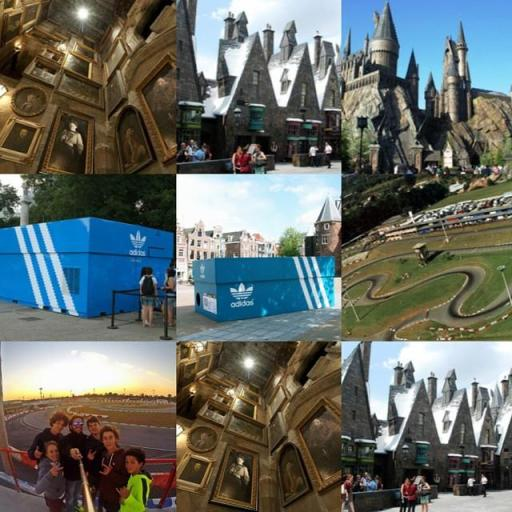Adidas: (226, 280, 256, 310)
